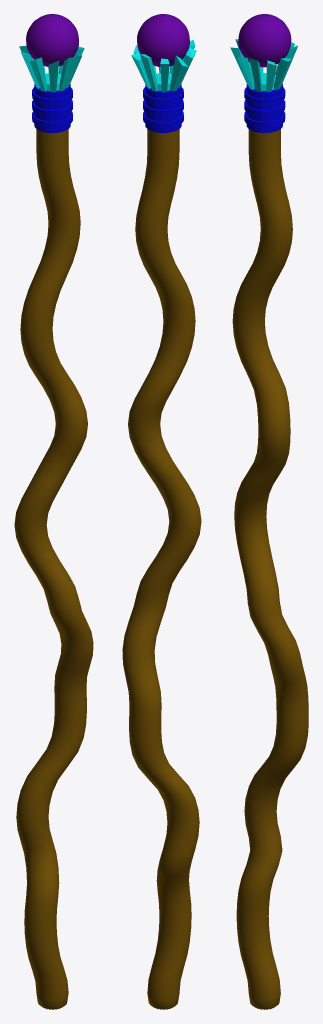
File: MagicStaffSketchFab.fbx
The picture shows the model from 3 angles, left to right: view 1: azimuth 30°, elevation 25°; view 2: azimuth 210°, elevation 25°; view 3: azimuth 330°, elevation 25°; orthographic projection.
Visible parts, largest first — view 1: Staff_Handle, Crystal, Staff_Top, Staff_Holder; view 2: Staff_Handle, Crystal, Staff_Top, Staff_Holder; view 3: Staff_Handle, Crystal, Staff_Top, Staff_Holder.
Boxes of the visible parts, bbox=[...] form: Staff_Handle: bbox=[14, 129, 93, 1009]; Crystal: bbox=[26, 14, 78, 66]; Staff_Top: bbox=[32, 84, 72, 132]; Staff_Holder: bbox=[19, 45, 84, 92]; Staff_Handle: bbox=[122, 129, 201, 1009]; Crystal: bbox=[137, 14, 189, 66]; Staff_Top: bbox=[143, 84, 183, 132]; Staff_Holder: bbox=[131, 39, 196, 92]; Staff_Handle: bbox=[232, 129, 308, 1009]; Crystal: bbox=[238, 14, 291, 67]; Staff_Top: bbox=[244, 84, 285, 132]; Staff_Holder: bbox=[230, 39, 297, 91].
Size of the model in its own units: 0.7833 by 10.69 by 0.6537.
